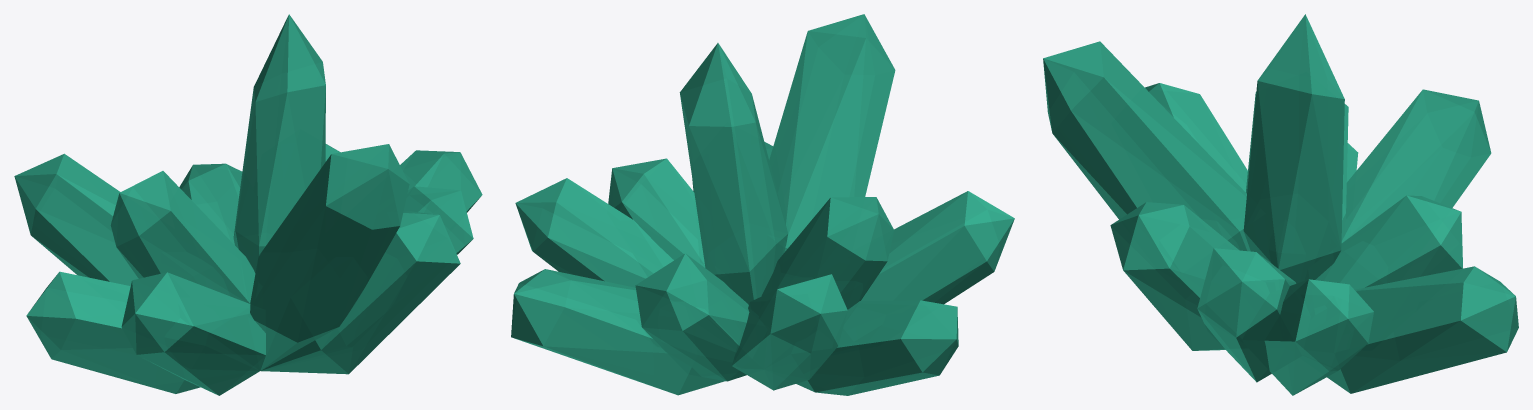
File: green_crystal.fbx
3 renders of one model, left to right at view 1: azimuth 30°, elevation 25°; view 2: azimuth 150°, elevation 25°; view 3: azimuth 270°, elevation 25°, orthographic. The views are drawn at different scales.
Visible parts, largest first — view 1: pCylinder61; view 2: pCylinder61; view 3: pCylinder61.
Boxes of the visible parts, x1,y1,x2,y2 form: pCylinder61: [14, 14, 482, 395]; pCylinder61: [511, 14, 1014, 395]; pCylinder61: [1043, 14, 1518, 395].
Size of the model in its own units: 5.93 by 4.35 by 5.25.
